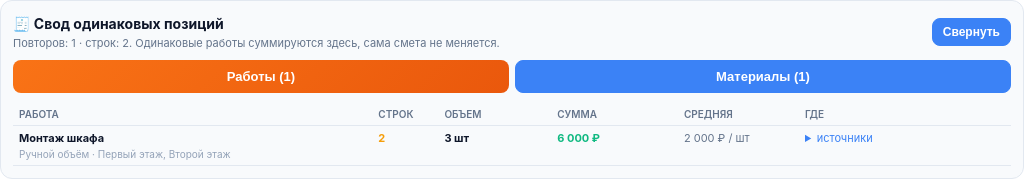
Test: EstimateDuplicateWorkSummaryPanel › switches between repeated works and repeated materials
This screenshot has width=1024, height=196.
Check: the button "Работы (1)" is shown, box [13,60,509,93]
Check: the text "Монтаж шкафа" is shown, box [19,131,104,145]
Click the button "Материалы (1)". click: x=763, y=76
box: [515,60,1011,93]
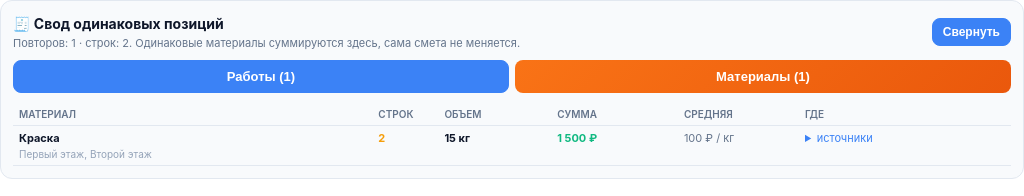
Check: the text "Краска" is shown, box [19,131,60,145]
Check: the text "Монтаж шкафа" is gone
